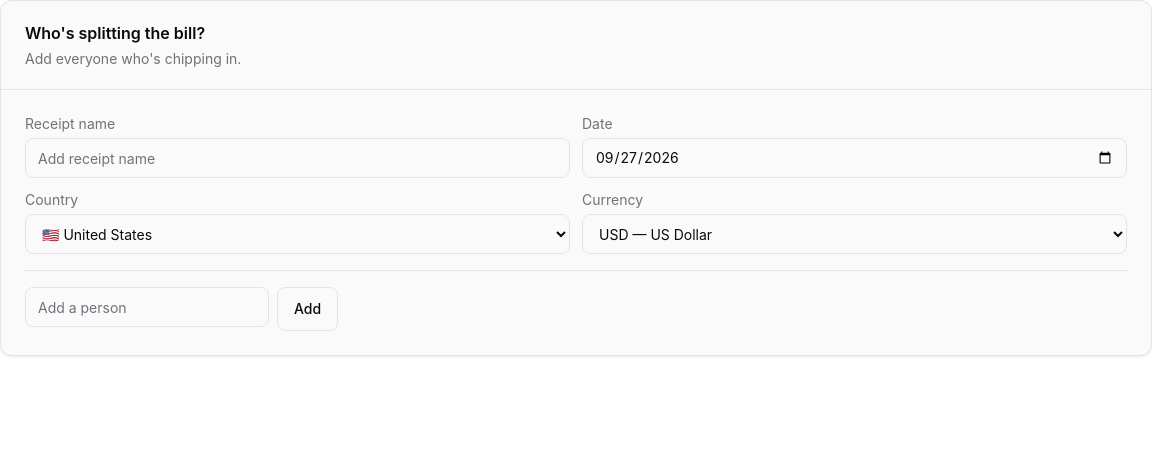
Test: PeopleManager › a new person's phone country falls back to the picked country
Select "🇯🇵 Japan" in the dropdown labelled "Country" at (298, 234), box [25,214,570,254]
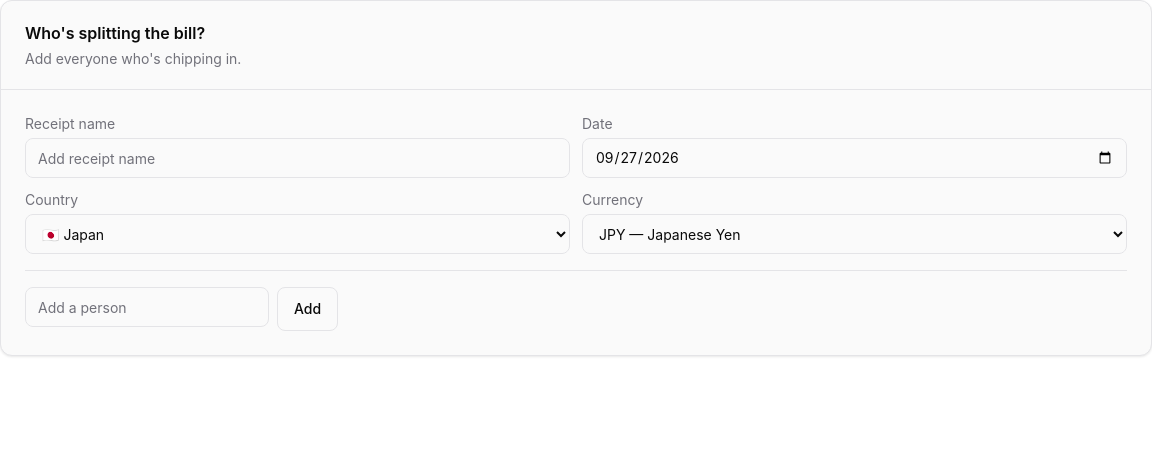
Type "Alice" into the field named "New person name".
click(147, 307); type("Alice")  # box [25,287,269,327]
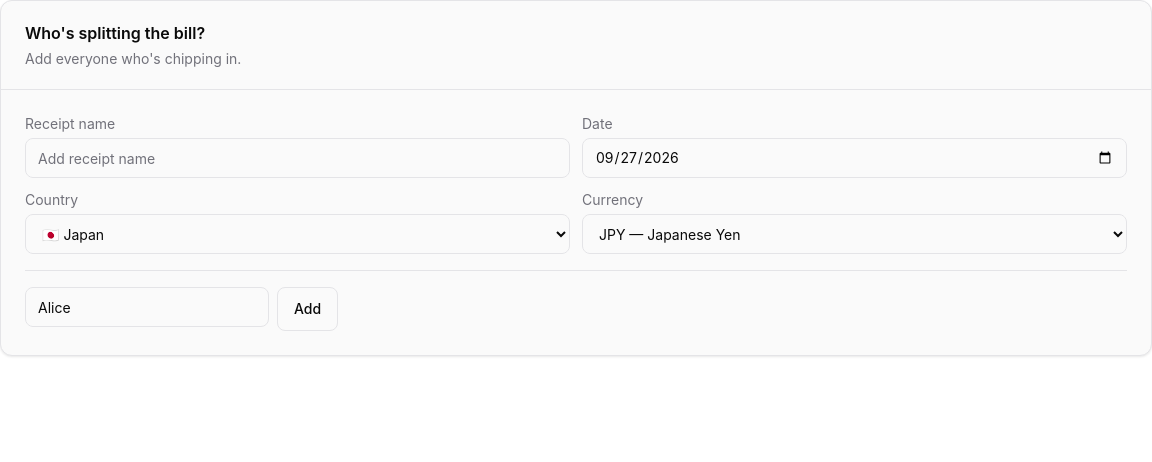
Click the button "Add".
click(308, 309)  # box [277,287,338,331]
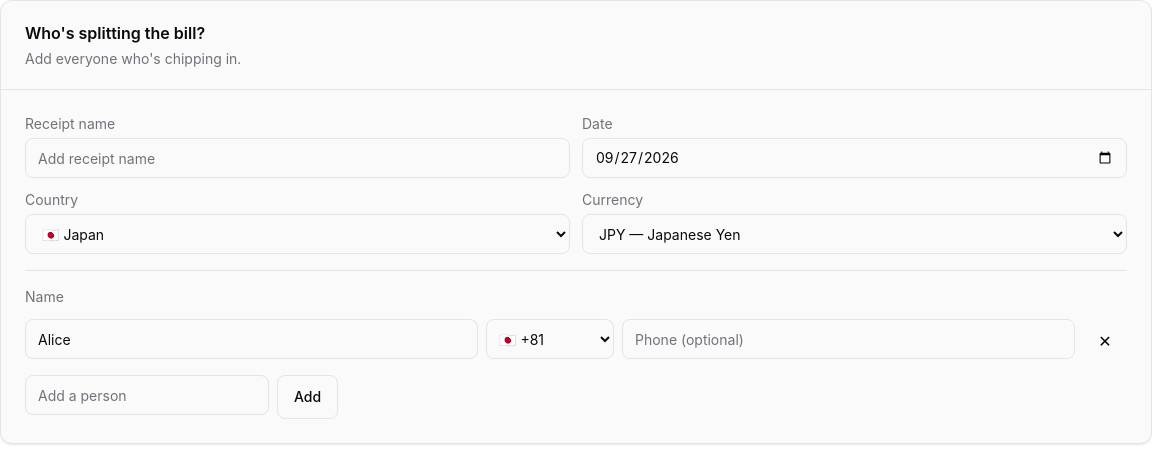
Check: the dropdown named "Alice phone country" shows "🇯🇵 +81", box [486,319,614,359]
